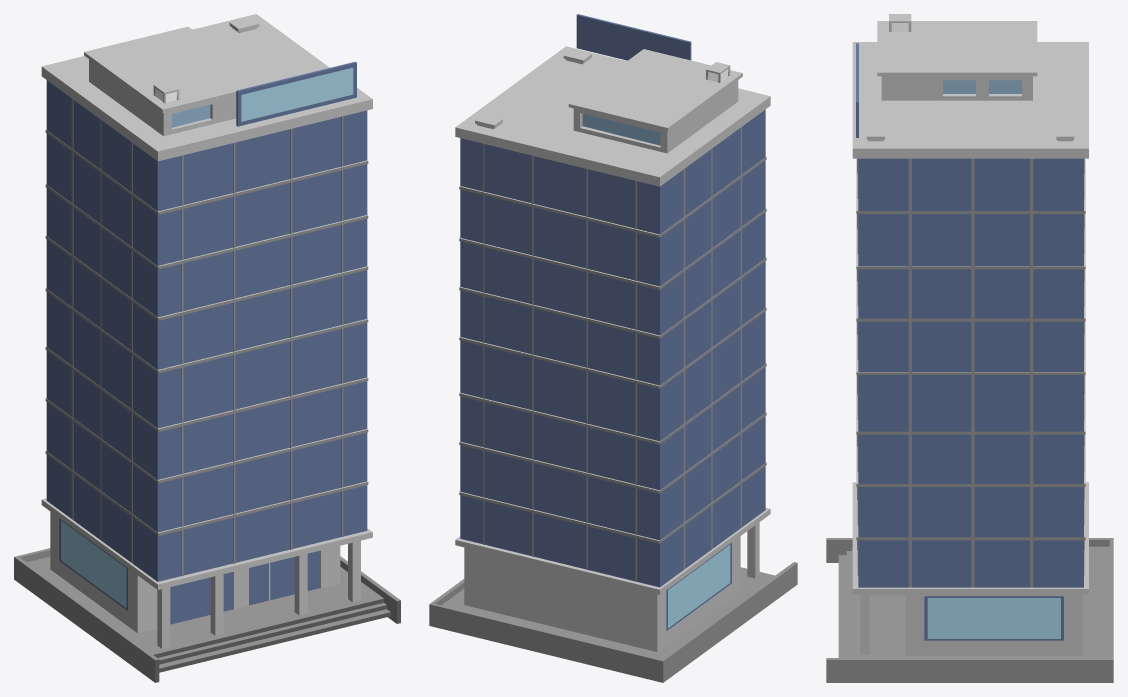
The model's file is business_center_004.fbx.
3 renders of one model, left to right at view 1: azimuth 30°, elevation 25°; view 2: azimuth 150°, elevation 25°; view 3: azimuth 270°, elevation 25°, orthographic. The views are drawn at different scales.
Visible parts, largest first — view 1: business_center_004; view 2: business_center_004; view 3: business_center_004.
Boxes of the visible parts, x1,y1,x2,y2 form: business_center_004: (14, 14, 400, 682); business_center_004: (429, 14, 797, 682); business_center_004: (826, 14, 1113, 682).
Bounding box in the file's own units: 1444 × 3134 × 1439.
